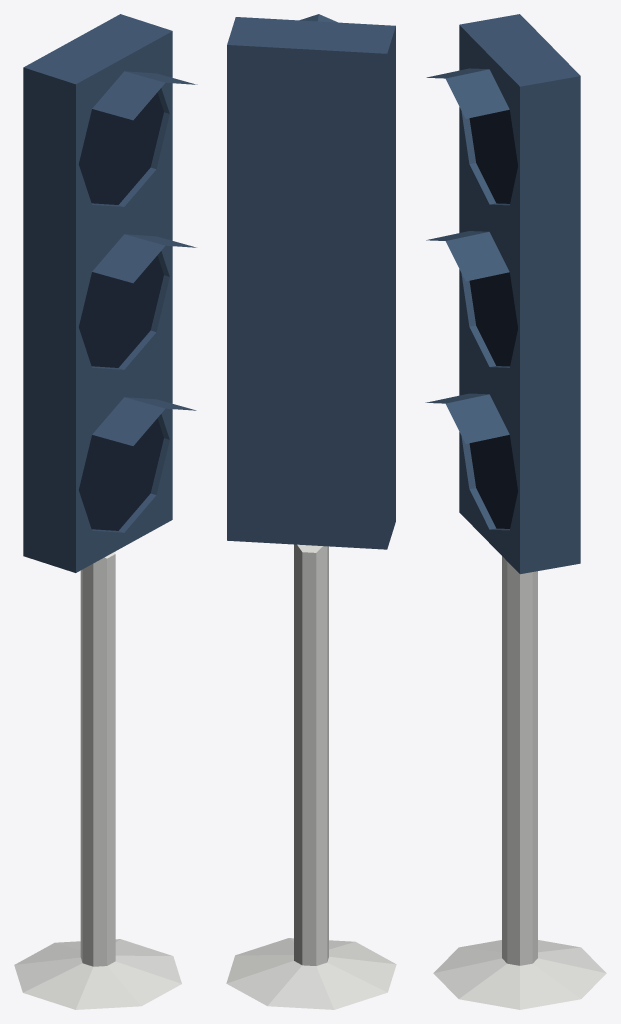
Rendered from LightYagami.fbx.
The picture shows the model from 3 angles, left to right: view 1: azimuth 30°, elevation 25°; view 2: azimuth 150°, elevation 25°; view 3: azimuth 270°, elevation 25°; orthographic projection.
Visible parts, largest first — view 1: deathNote; view 2: deathNote; view 3: deathNote.
Part boxes in pixels (bbox=[...]): deathNote: bbox=[14, 14, 197, 1009]; deathNote: bbox=[226, 14, 396, 1009]; deathNote: bbox=[425, 14, 606, 1009].
Size of the model in its own units: 193 by 1136 by 202.
